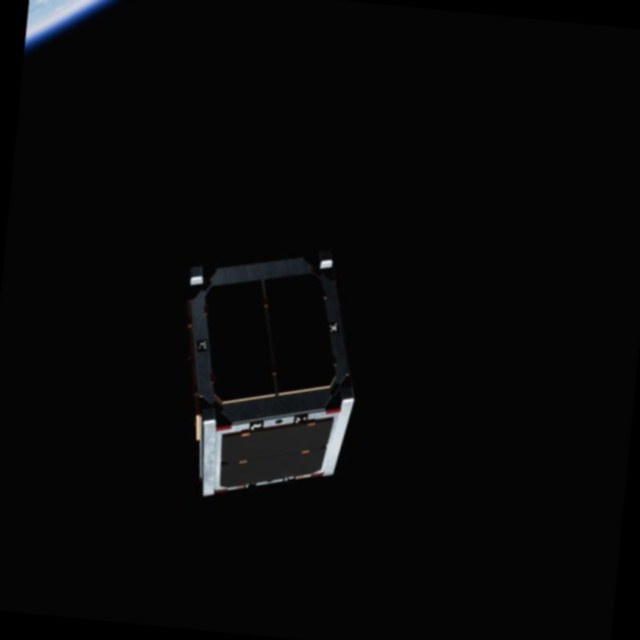satellite: (179, 240, 371, 515)
